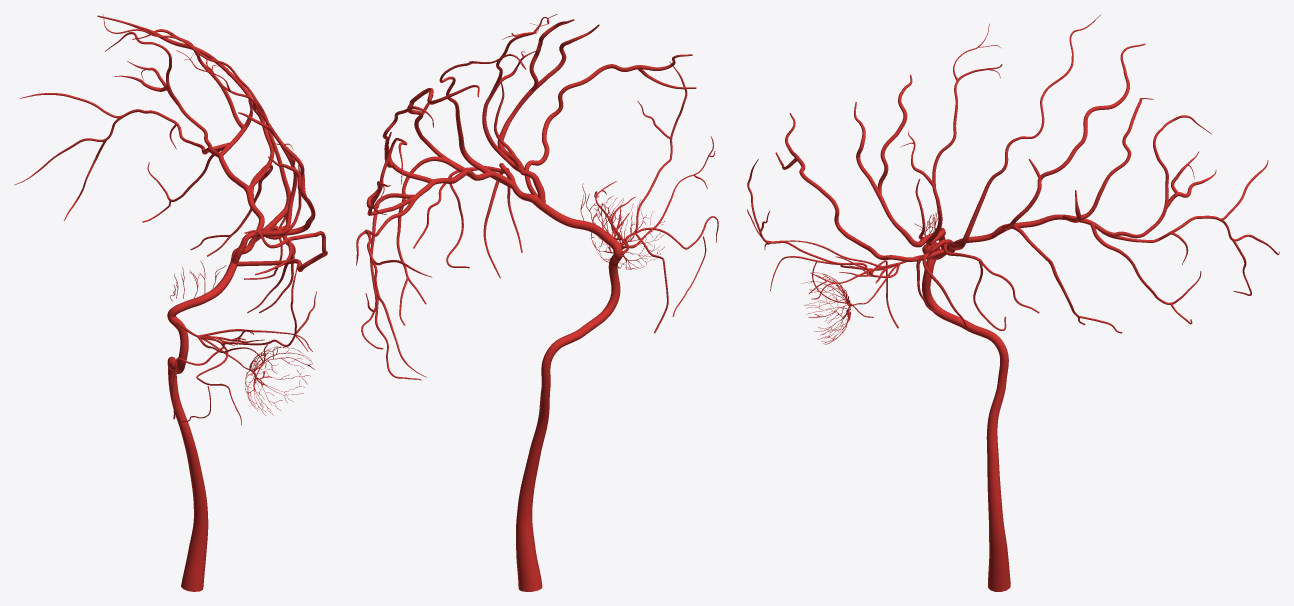
File: circulatorio-internal-carotid-artery-l.glb
3 views of the same model, side by side, from view 1: azimuth 30°, elevation 25°; view 2: azimuth 150°, elevation 25°; view 3: azimuth 270°, elevation 25° (orthographic). The views are drawn at different scales.
Parts seen in each view (by area): view 1: Internal carotid artery.l, Central retinal artery.l, Prefrontal artery.l, Artery of central sulcus.l, Lateral frontobasal artery.l, Temporo-occipital branch.l, Artery of precentral sulcus.l, Postcentral arterial branch.l, Posterior parietal artery.l, Middle cerebral artery (M1-segment).l, Parietal branches of middle cerebral artery.l, Middle cerebral artery (M3 segment).l (+5 smaller); view 2: Internal carotid artery.l, Lateral frontobasal artery.l, Prefrontal artery.l, Artery of precentral sulcus.l, Anterior temporal branch.l, Temporo-occipital branch.l, Artery of central sulcus.l, Middle cerebral artery (M3 segment).l, Middle cerebral artery (M1-segment).l, Central retinal artery.l, Posterior parietal artery.l, Postcentral arterial branch.l (+5 smaller); view 3: Internal carotid artery.l, Artery of precentral sulcus.l, Prefrontal artery.l, Anterior temporal branch.l, Posterior parietal artery.l, Lateral frontobasal artery.l, Postcentral arterial branch.l, Central retinal artery.l, Artery of central sulcus.l, Temporo-occipital branch.l, Parietal branches of middle cerebral artery.l, Middle cerebral artery (M3 segment).l.
Boxes of the visible parts, x1=… form: Internal carotid artery.l: x1=167, y1=316, x2=208, y2=591; Central retinal artery.l: x1=201, y1=338, x2=314, y2=415; Prefrontal artery.l: x1=238, y1=112, x2=315, y2=236; Artery of central sulcus.l: x1=103, y1=14, x2=290, y2=241; Lateral frontobasal artery.l: x1=236, y1=230, x2=327, y2=275; Temporo-occipital branch.l: x1=14, y1=93, x2=182, y2=220; Artery of precentral sulcus.l: x1=176, y1=50, x2=301, y2=239; Postcentral arterial branch.l: x1=97, y1=15, x2=274, y2=188; Posterior parietal artery.l: x1=105, y1=32, x2=212, y2=147; Middle cerebral artery (M1-segment).l: x1=167, y1=262, x2=236, y2=319; Parietal branches of middle cerebral artery.l: x1=132, y1=29, x2=252, y2=155; Middle cerebral artery (M3 segment).l: x1=181, y1=137, x2=264, y2=237; Internal carotid artery.l: x1=516, y1=254, x2=622, y2=591; Lateral frontobasal artery.l: x1=524, y1=54, x2=696, y2=196; Prefrontal artery.l: x1=497, y1=19, x2=599, y2=173; Artery of precentral sulcus.l: x1=482, y1=14, x2=557, y2=172; Anterior temporal branch.l: x1=413, y1=163, x2=522, y2=278; Temporo-occipital branch.l: x1=364, y1=229, x2=432, y2=380; Artery of central sulcus.l: x1=439, y1=54, x2=525, y2=188; Middle cerebral artery (M3 segment).l: x1=376, y1=169, x2=514, y2=235; Middle cerebral artery (M1-segment).l: x1=540, y1=203, x2=622, y2=258; Central retinal artery.l: x1=591, y1=195, x2=664, y2=269; Posterior parietal artery.l: x1=366, y1=138, x2=416, y2=215; Postcentral arterial branch.l: x1=407, y1=85, x2=479, y2=170; Internal carotid artery.l: x1=922, y1=258, x2=1010, y2=591; Artery of precentral sulcus.l: x1=901, y1=23, x2=1002, y2=245; Prefrontal artery.l: x1=854, y1=74, x2=944, y2=247; Anterior temporal branch.l: x1=916, y1=239, x2=1039, y2=330; Posterior parietal artery.l: x1=1091, y1=115, x2=1216, y2=238; Lateral frontobasal artery.l: x1=775, y1=113, x2=944, y2=261; Postcentral arterial branch.l: x1=1001, y1=43, x2=1145, y2=229; Central retinal artery.l: x1=802, y1=265, x2=897, y2=344; Artery of central sulcus.l: x1=949, y1=14, x2=1101, y2=250; Temporo-occipital branch.l: x1=1157, y1=160, x2=1279, y2=295; Parietal branches of middle cerebral artery.l: x1=1062, y1=98, x2=1153, y2=222; Middle cerebral artery (M3 segment).l: x1=952, y1=214, x2=1157, y2=244.
Size of the model in its own units: 0.0701 by 0.2101 by 0.183.
